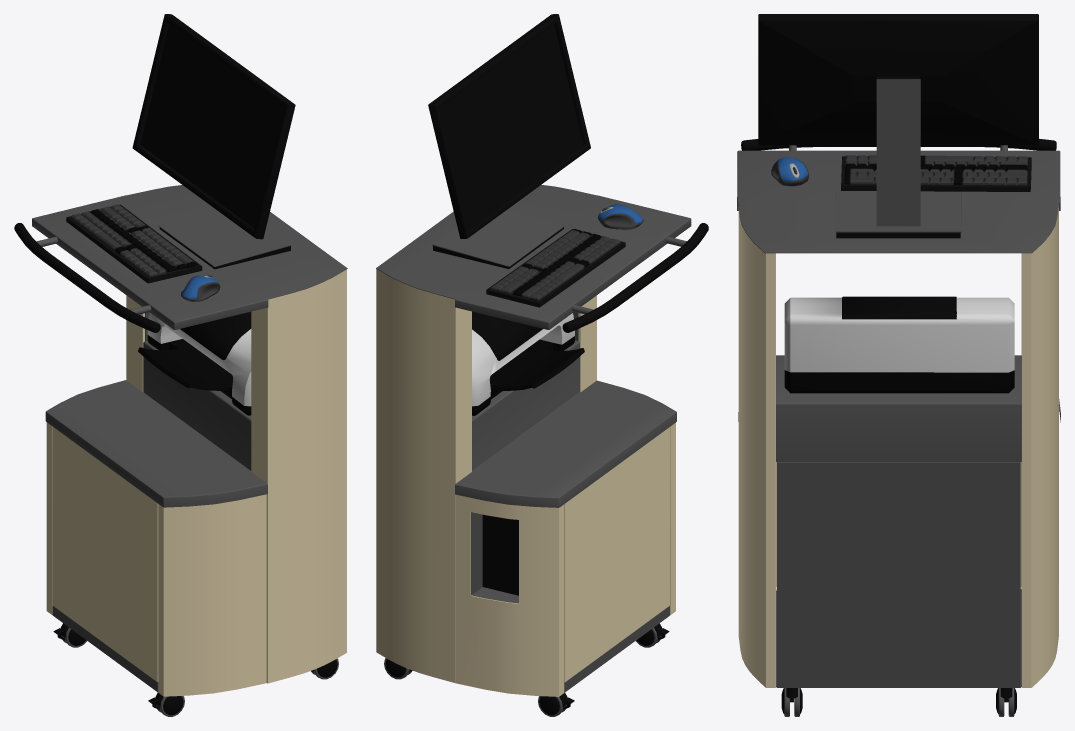
The model's file is Station_Computer_MergedUVs.FBX.
3 views of the same model, side by side, from view 1: azimuth 30°, elevation 25°; view 2: azimuth 150°, elevation 25°; view 3: azimuth 270°, elevation 25° (orthographic). The views are drawn at different scales.
Visible parts, largest first — view 1: Biodex_Station_Chassis; view 2: Biodex_Station_Chassis; view 3: Biodex_Station_Chassis.
Part boxes in pixels (box(x1,y1,x2,y2)): Biodex_Station_Chassis: box(14, 14, 347, 716); Biodex_Station_Chassis: box(376, 14, 708, 716); Biodex_Station_Chassis: box(737, 14, 1060, 716).
Bounding box in the file's own units: 56.61 × 149 × 65.06.
